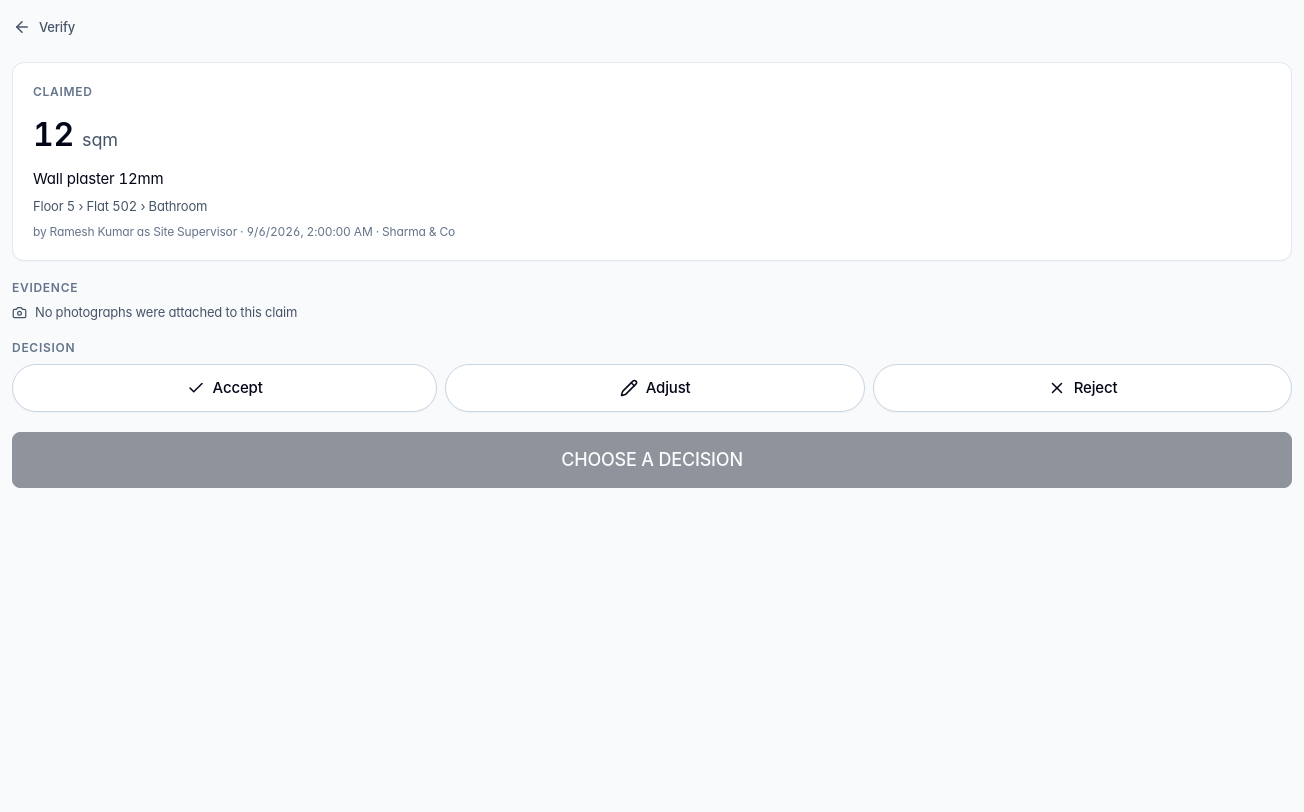
Scenario: S-M09 verification › adjusting and rejecting both demand a reason; accepting does not
The width and height of the screenshot is (1304, 812).
Click the button "Accept" at (225, 388), box [12,364,437,412]
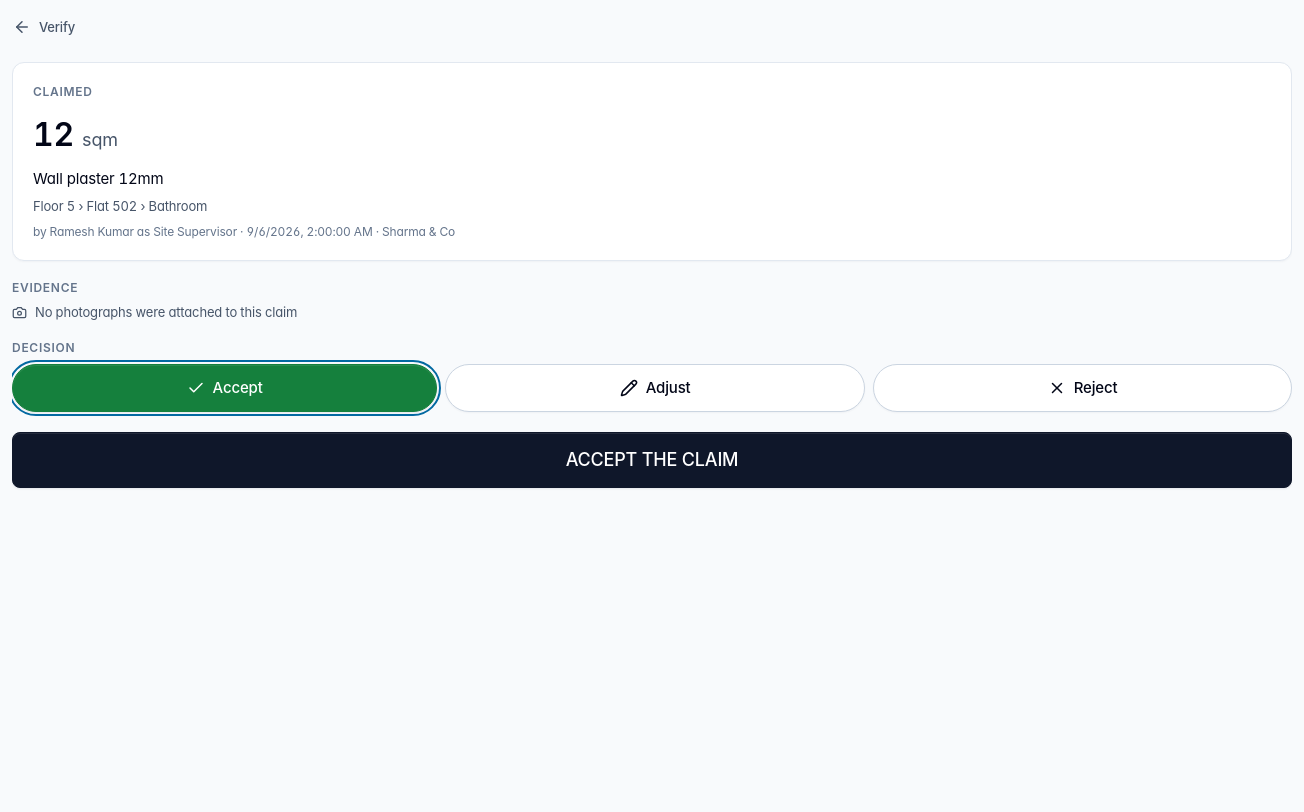
Check: the button "ACCEPT THE CLAIM" is enabled, box [12,432,1292,488]
Click the button "Reject" at (1083, 388), box [873,364,1292,412]
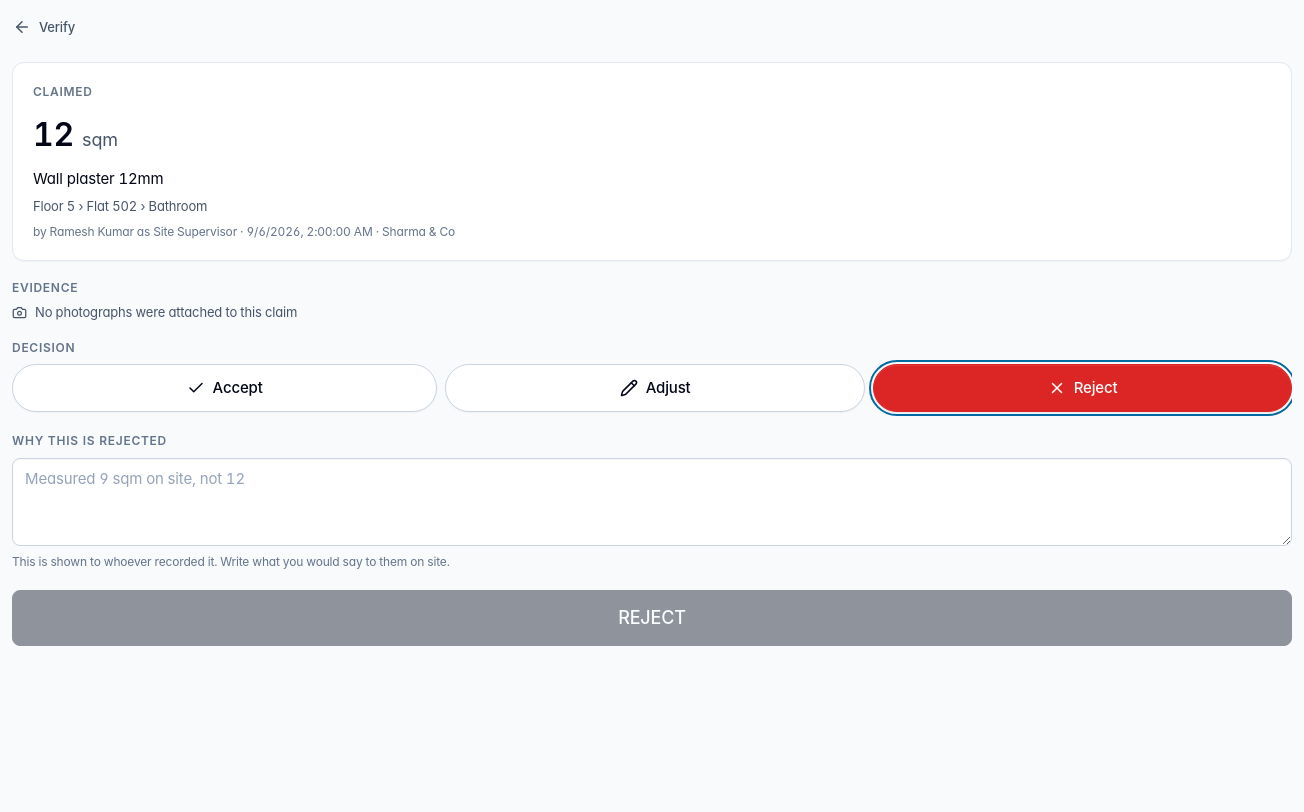
Check: the text box named "Reason" is shown
Check: the button "REJECT" is disabled, box [12,590,1292,646]
Type "Not done" into the text box named "Reason" at (652, 502), box [12,458,1292,546]
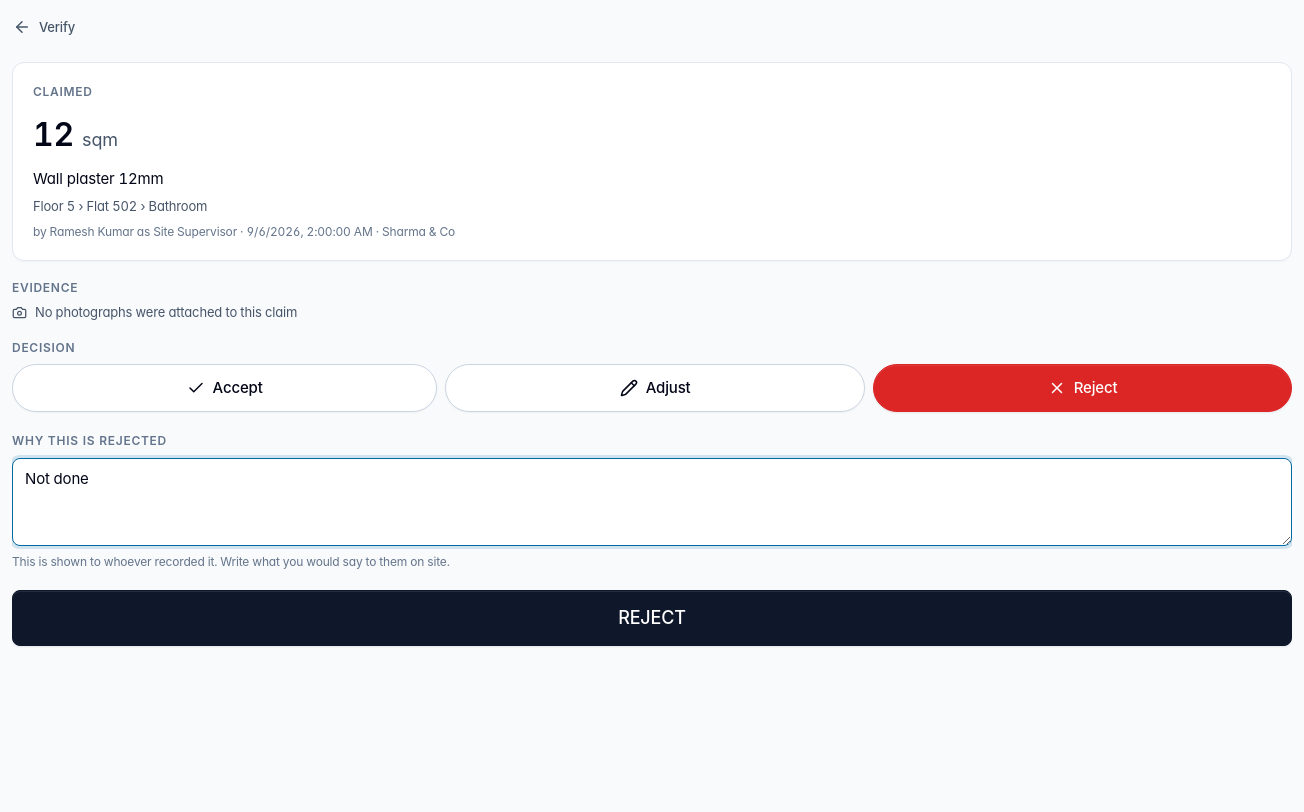
Check: the button "REJECT" is enabled, box [12,590,1292,646]
